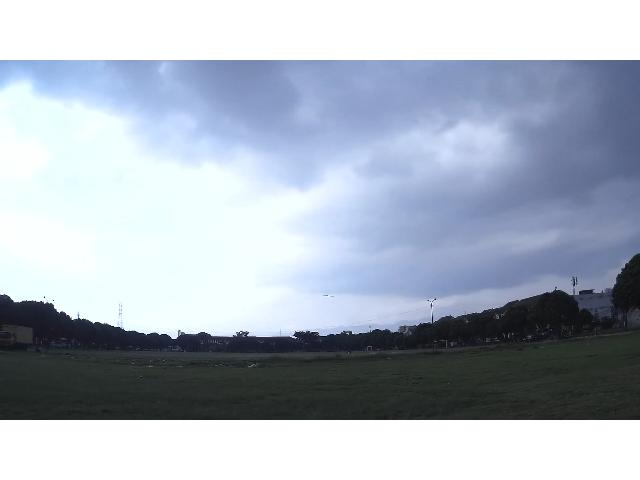Anti-Drone: (322, 295, 334, 297)
